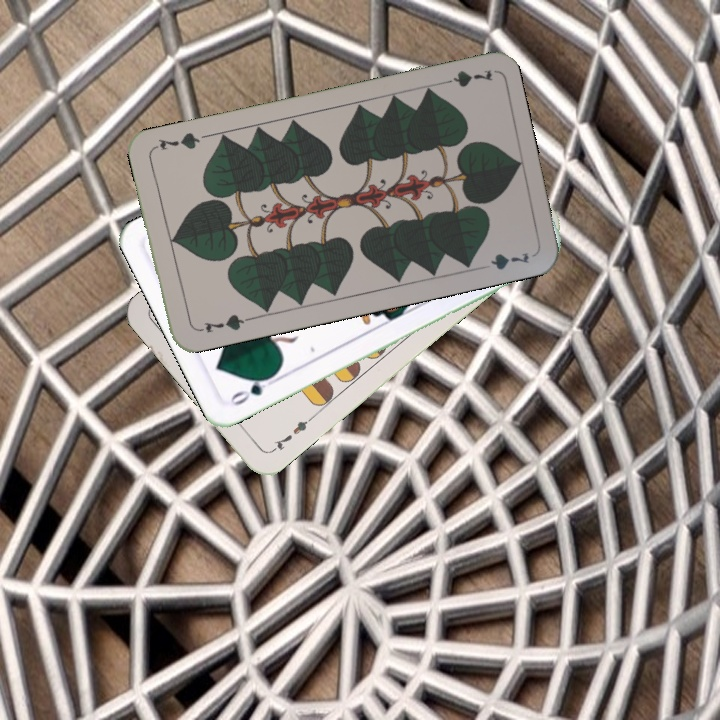E7: (267, 412, 316, 455)
G7: (193, 310, 251, 336), (435, 65, 495, 90)
GO: (226, 370, 281, 408)
